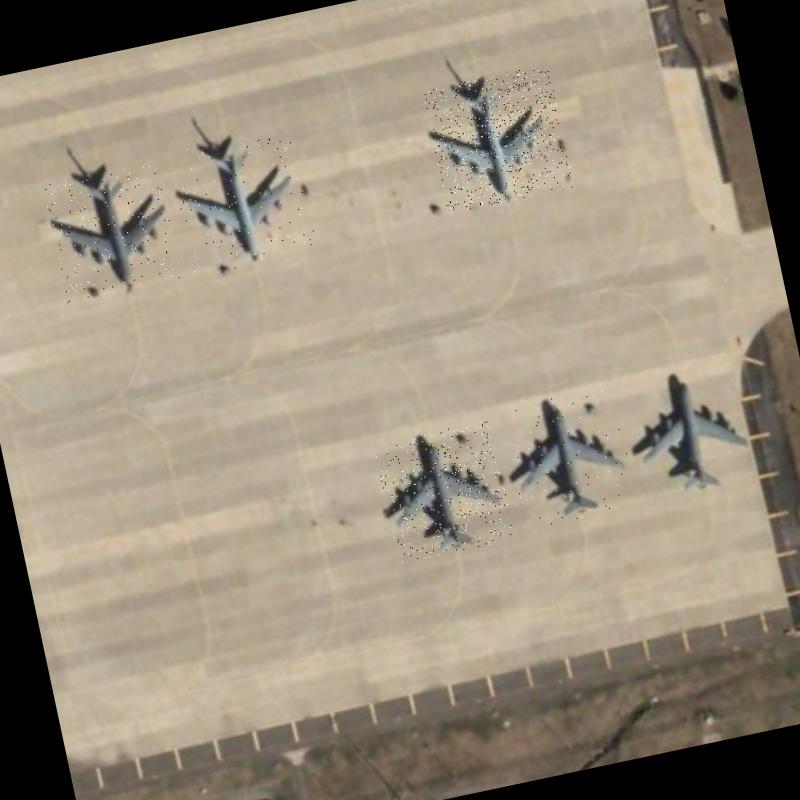A14: (423, 64, 574, 214), (168, 127, 318, 276), (622, 356, 764, 502), (374, 420, 516, 564), (501, 384, 639, 530), (43, 161, 182, 303)
